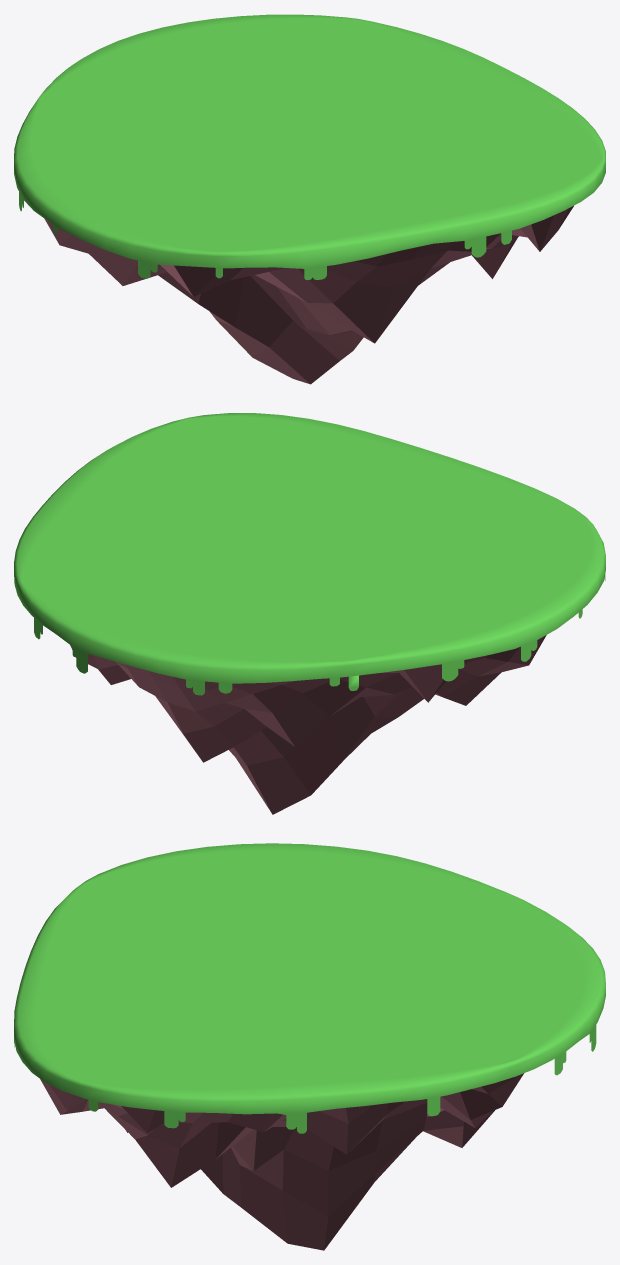
File: IslandBig.fbx
The picture shows the model from 3 angles, top to bottom: view 1: azimuth 30°, elevation 25°; view 2: azimuth 150°, elevation 25°; view 3: azimuth 270°, elevation 25°; orthographic projection. The views are drawn at different scales.
Visible parts, largest first — view 1: Circle.002, Circle.003; view 2: Circle.002, Circle.003; view 3: Circle.002, Circle.003.
Part boxes in pixels (x1,y1,x2,y2): Circle.002: (14,14,605,279); Circle.003: (44,206,573,384); Circle.002: (14,413,605,695); Circle.003: (70,635,546,814); Circle.002: (14,843,605,1133); Circle.003: (40,1073,523,1250).
Size of the model in its own units: 2739 by 1343 by 2666.
